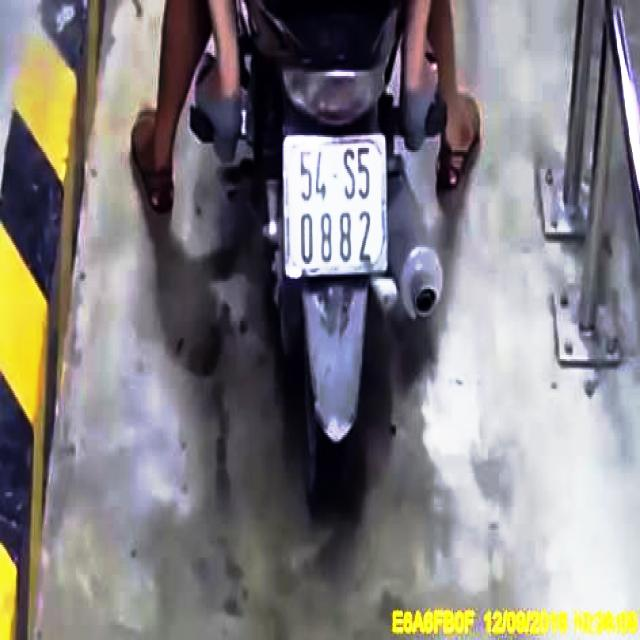license_plate: (285, 134, 389, 281)
